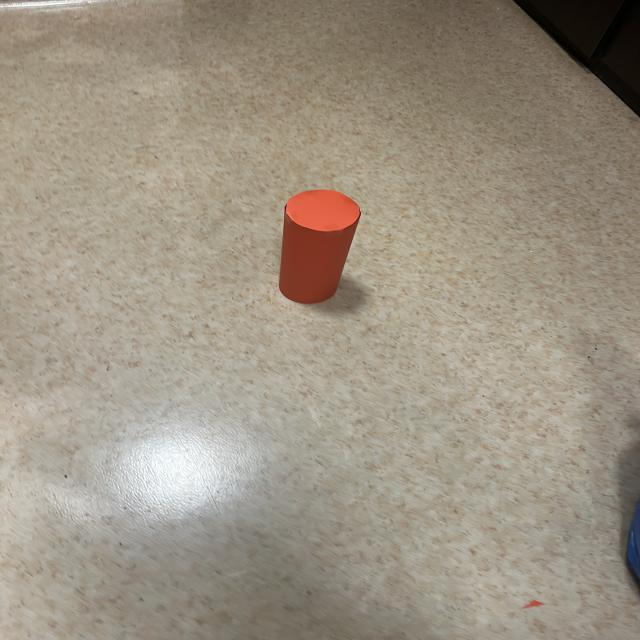przeszkoda: (279, 190, 360, 304)
